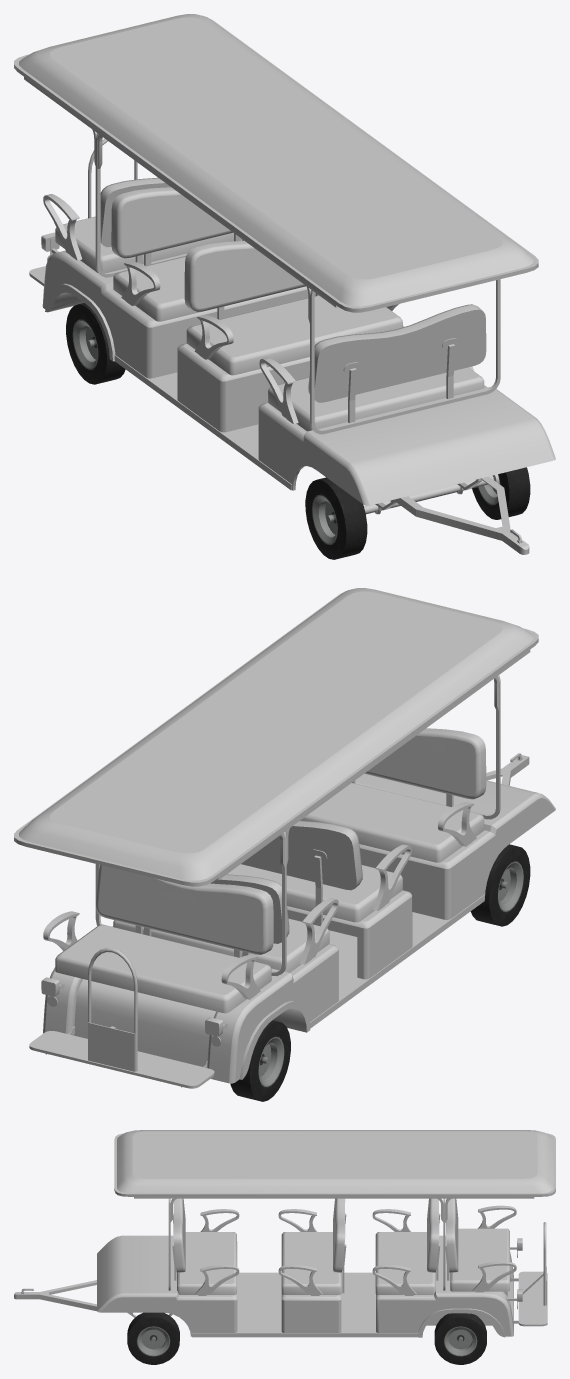
The model's file is GolfCart_Trailer_Collapsed.fbx.
3 renders of one model, top to bottom at view 1: azimuth 30°, elevation 25°; view 2: azimuth 150°, elevation 25°; view 3: azimuth 270°, elevation 25°, orthographic. The views are drawn at different scales.
Visible parts, largest first — view 1: GolfCart_Trailer; view 2: GolfCart_Trailer; view 3: GolfCart_Trailer.
Boxes of the visible parts, x1,y1,x2,y2 form: GolfCart_Trailer: (14, 14, 555, 559); GolfCart_Trailer: (14, 588, 555, 1101); GolfCart_Trailer: (14, 1130, 555, 1364).
Size of the model in its own units: 136 by 186 by 505.
